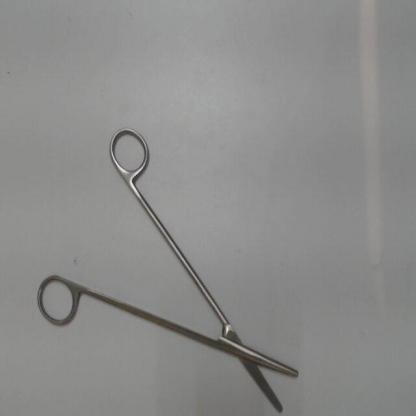9 Metzenbaum Scissors: (33, 124, 302, 415)
